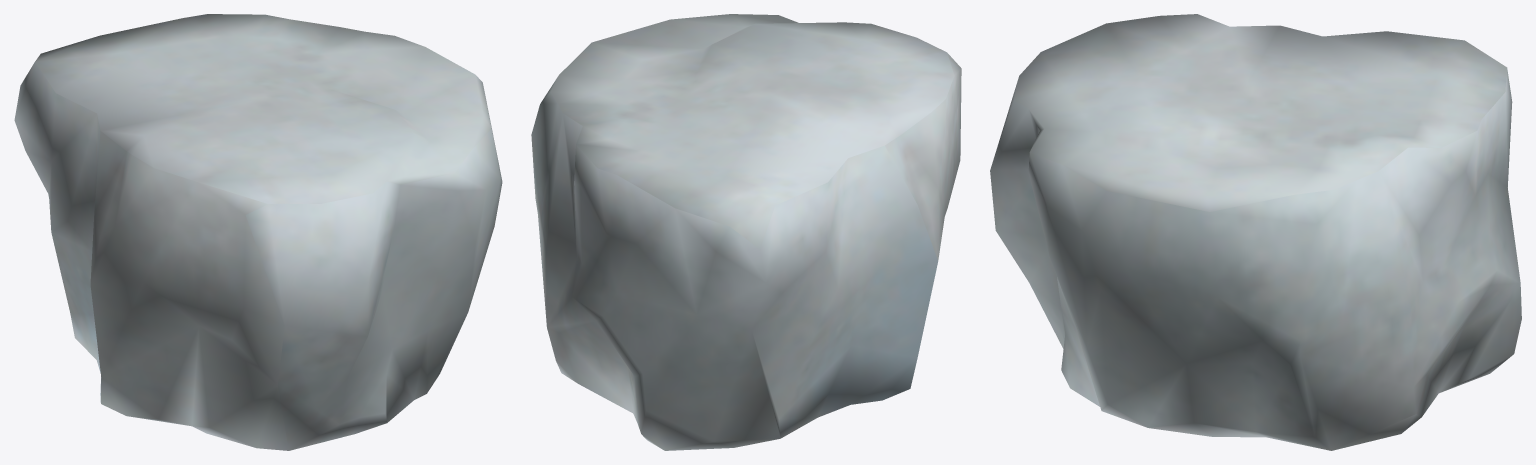
Rendered from P_ShelfClassic1.obj.
3 views of the same model, side by side, from view 1: azimuth 30°, elevation 25°; view 2: azimuth 150°, elevation 25°; view 3: azimuth 270°, elevation 25° (orthographic). The views are drawn at different scales.
Size of the model in its own units: 13.55 by 9.28 by 15.62.
